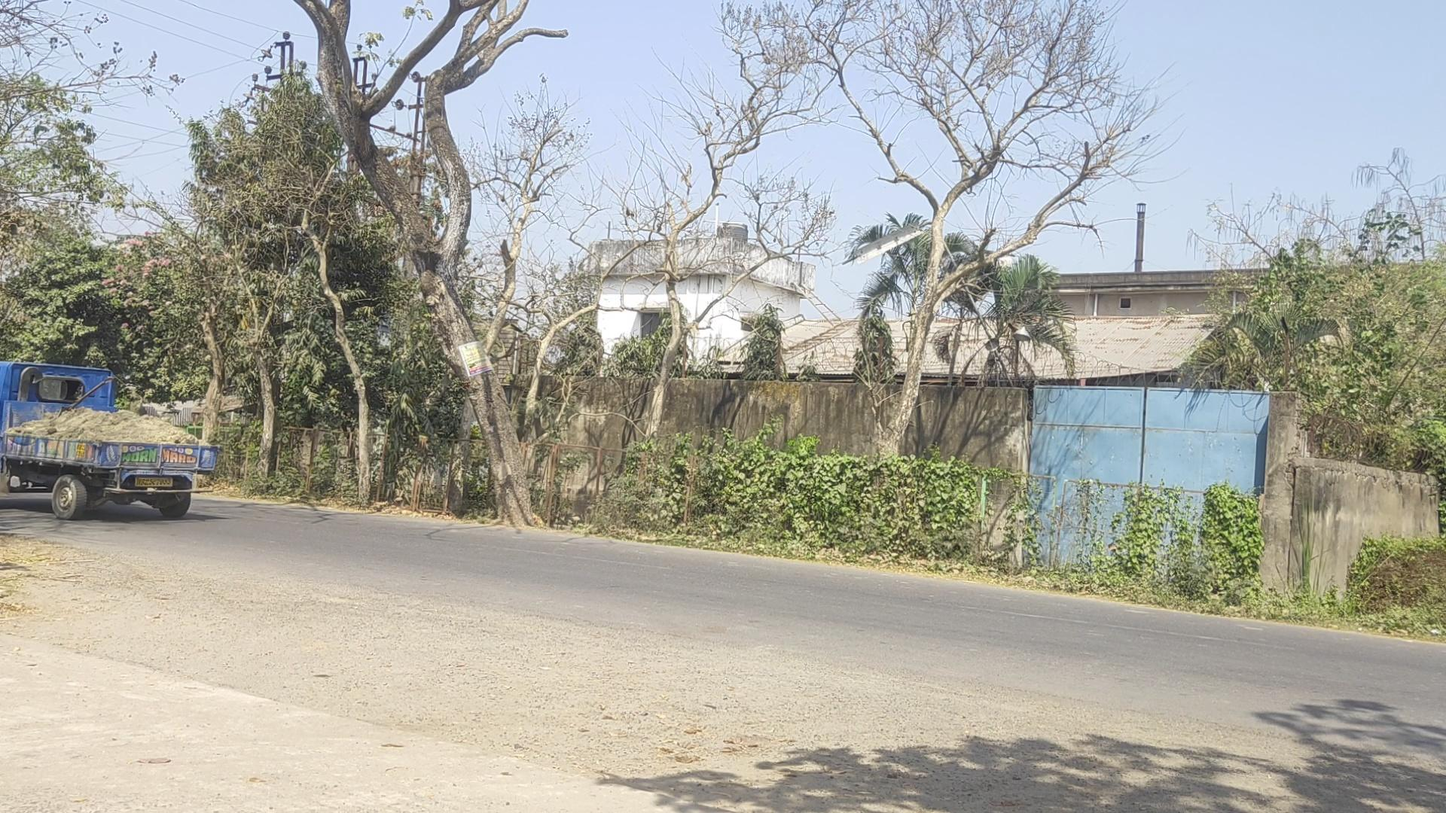van: (1, 361, 221, 519)
